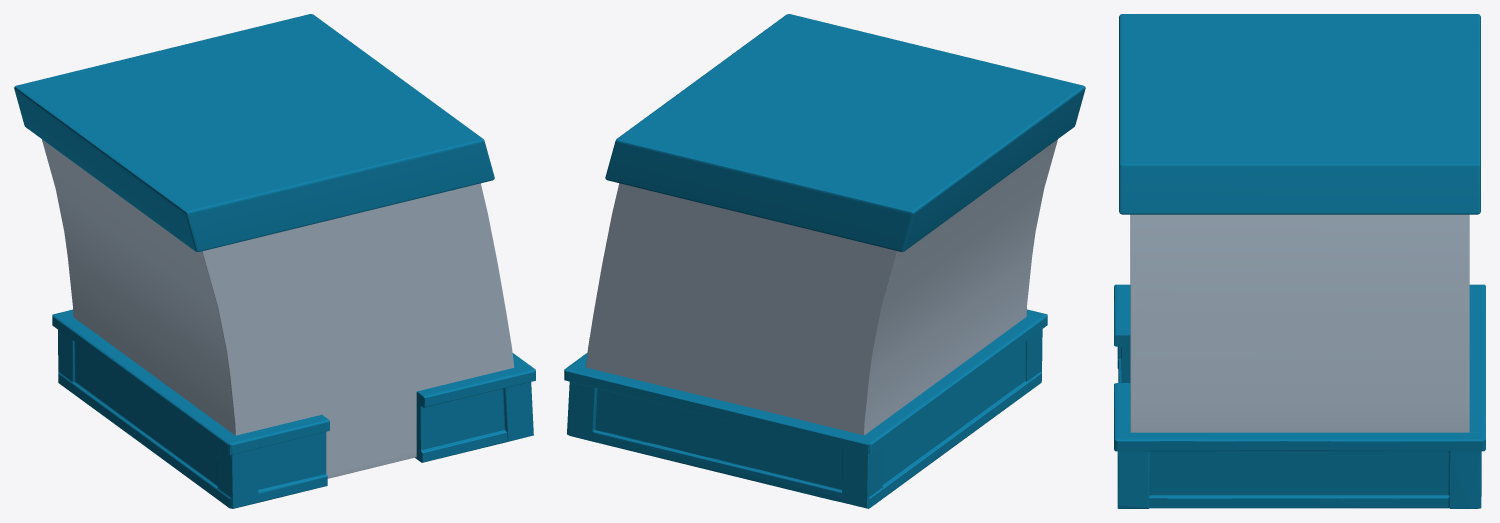
The model's file is Mesh_EDH_Building2.fbx.
3 views of the same model, side by side, from view 1: azimuth 30°, elevation 25°; view 2: azimuth 150°, elevation 25°; view 3: azimuth 270°, elevation 25° (orthographic). The views are drawn at different scales.
Visible parts, largest first — view 1: Group29919; view 2: Group29919; view 3: Group29919.
Boxes of the visible parts, x1=… form: Group29919: x1=14, y1=14, x2=535, y2=508; Group29919: x1=564, y1=14, x2=1085, y2=508; Group29919: x1=1114, y1=14, x2=1485, y2=508.
Size of the model in its own units: 198 by 167 by 175.
